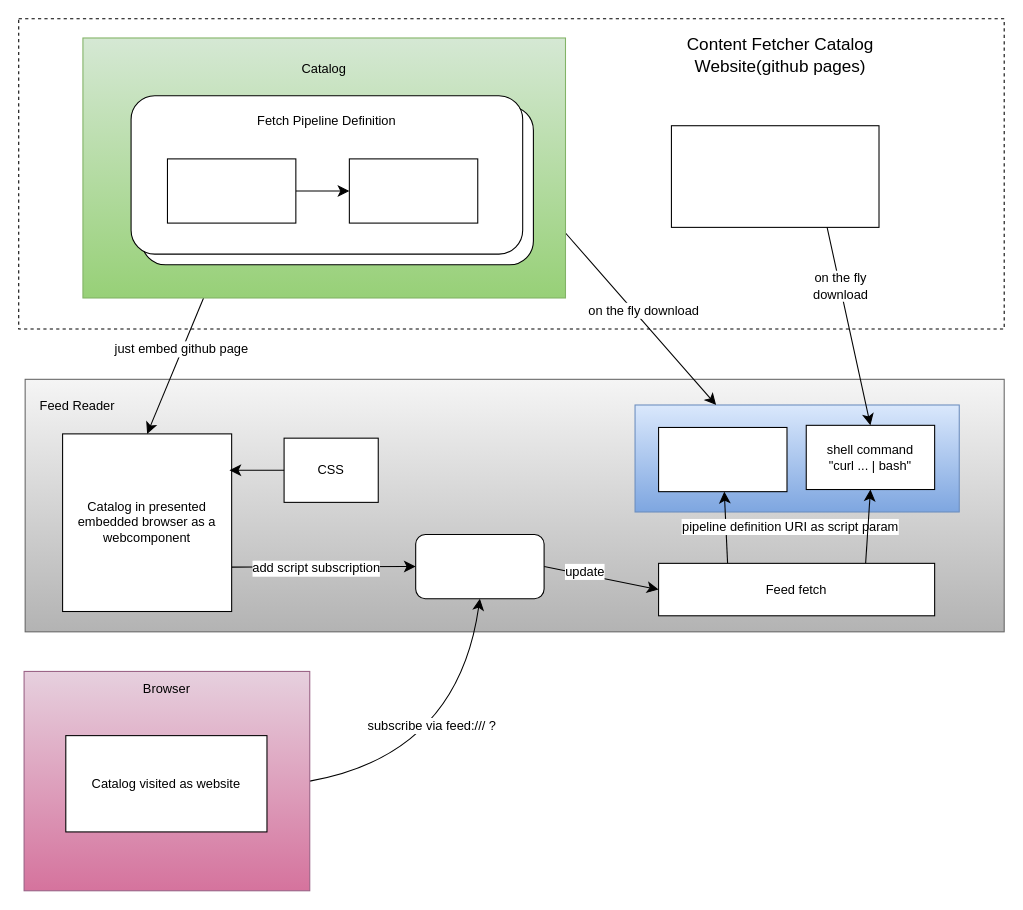
Some shapes in this 1023 by 910 pixel diagram are drawn without their labels. Here are the shapes that lost their labels. From the top down, the centre of each, then its label:
At (x=231, y=190): "fetch & lookup".
At (x=413, y=190): "aggregate".
At (x=774, y=176): "Fetch Pipeline Runner (Python script)".
At (x=722, y=459): "local Fetch Pipeliner Runner".
At (x=479, y=566): "FeedList".
